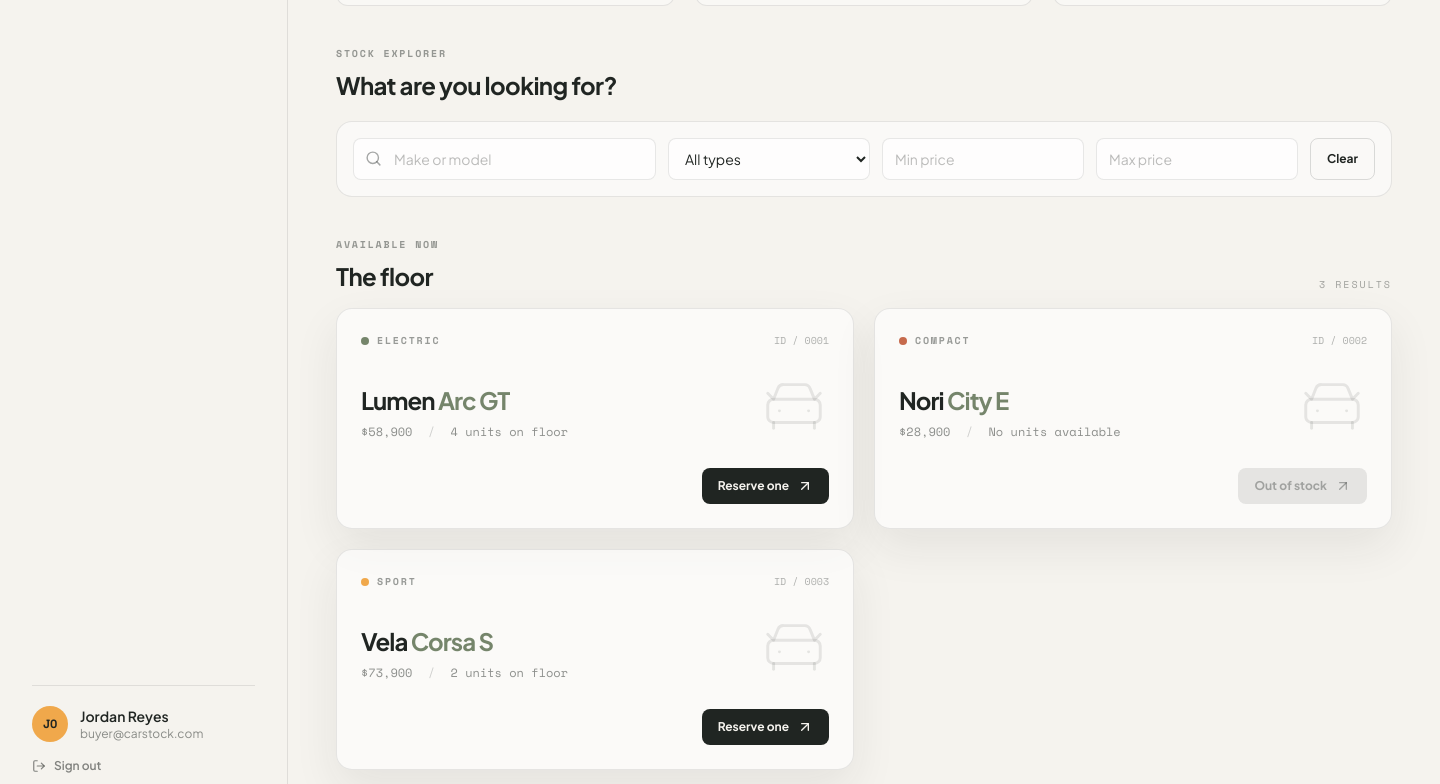
Test: Dashboard (customer) › shows the error and refreshes when a purchase fails
The width and height of the screenshot is (1440, 784).
(page scrolled)
Click the button "Reserve one" below "4 units on floor" at (765, 486), box x1=702 y1=468 x2=829 y2=504
(page scrolled)
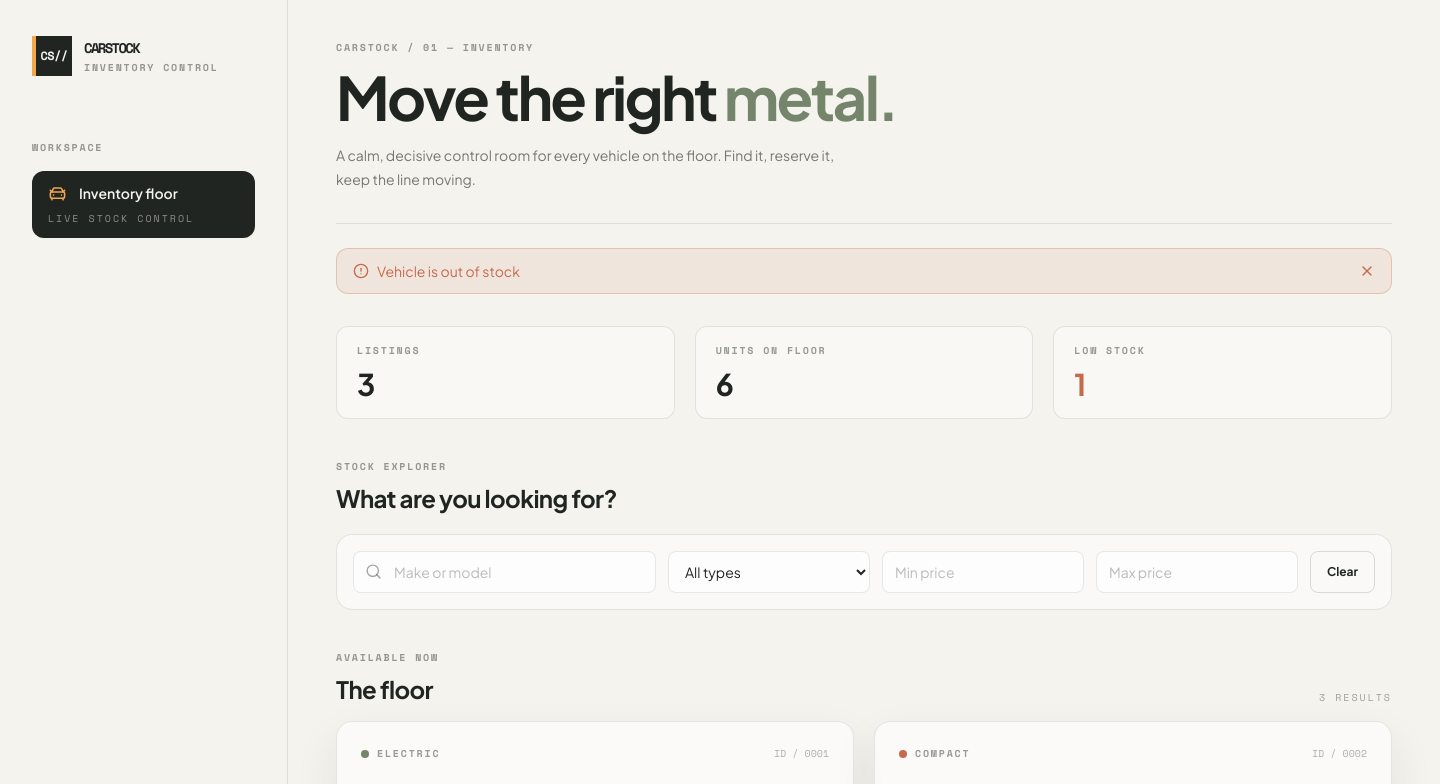
Now the message reads "Vehicle is out of stock", box x1=377 y1=262 x2=520 y2=280
